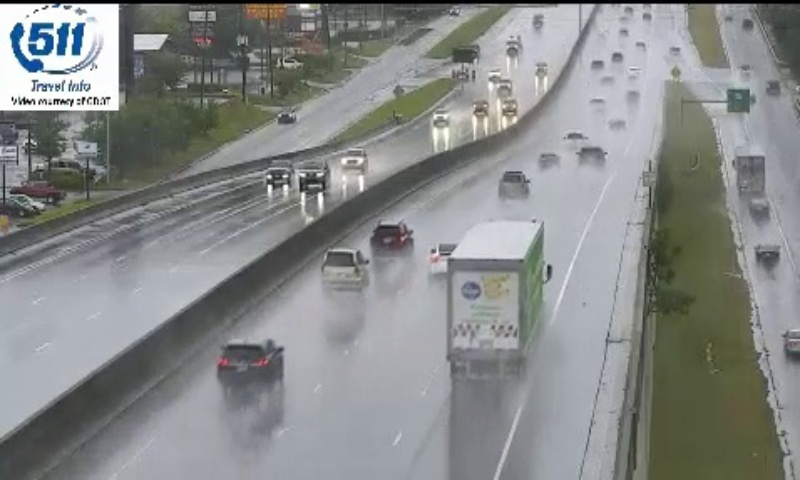car: (217, 339, 284, 386), (321, 247, 368, 293), (369, 222, 413, 257), (430, 243, 461, 278), (497, 170, 528, 199), (577, 146, 604, 169)
small-truck: (446, 222, 543, 375)
